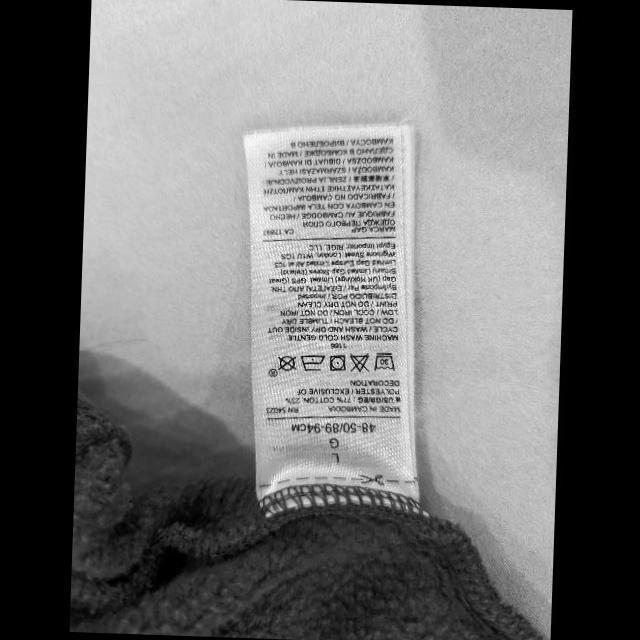30C: (372, 349, 398, 372)
DN_bleach: (347, 349, 370, 374)
DN_dry_clean: (274, 352, 296, 372)
iron_low: (298, 350, 326, 371)
tumble_dry_low: (327, 352, 346, 372)
